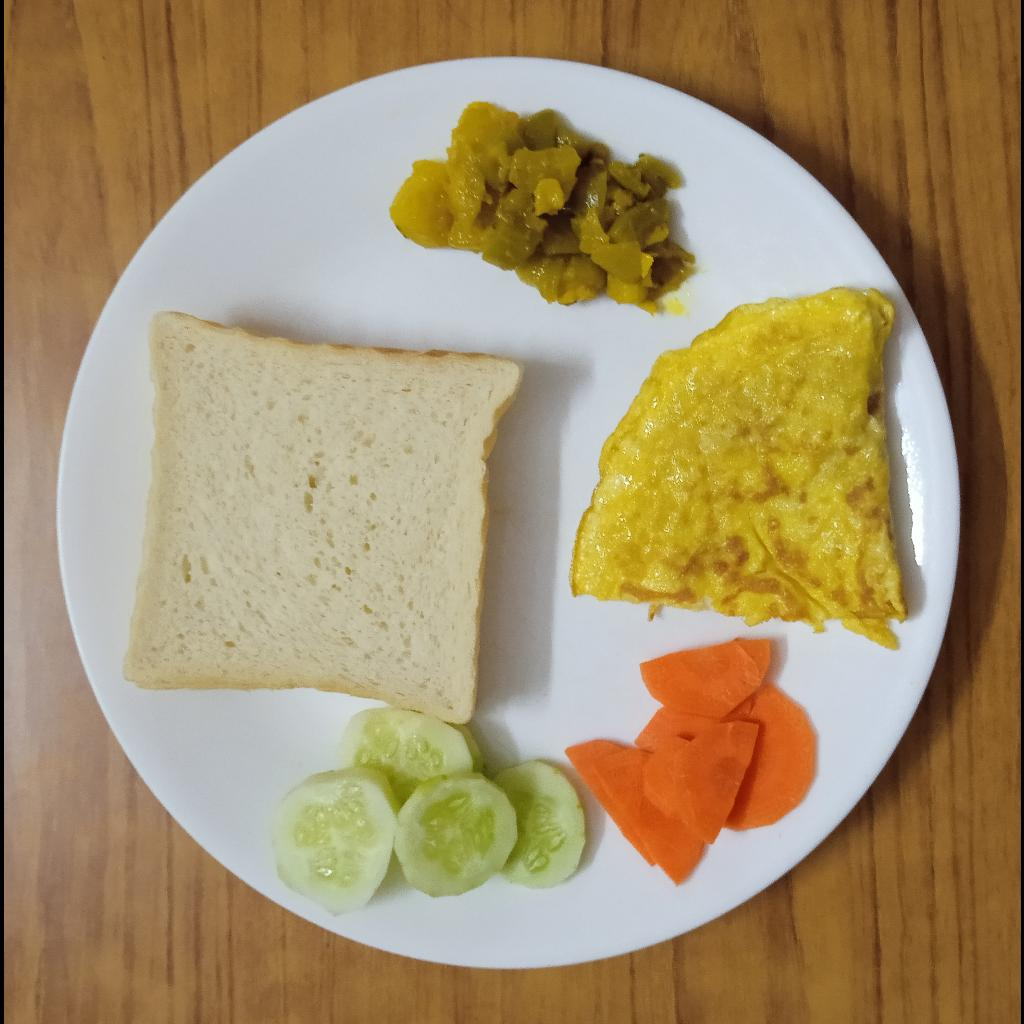bread: (126, 313, 523, 724)
carrot: (567, 639, 816, 881)
cucumber: (269, 708, 585, 912)
egg-poached: (571, 287, 909, 649)
lau: (389, 107, 692, 308)
